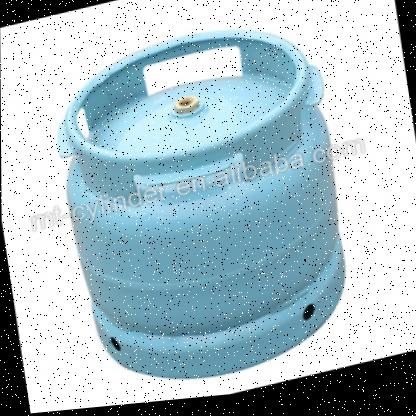gas-tank: (26, 0, 379, 413)
